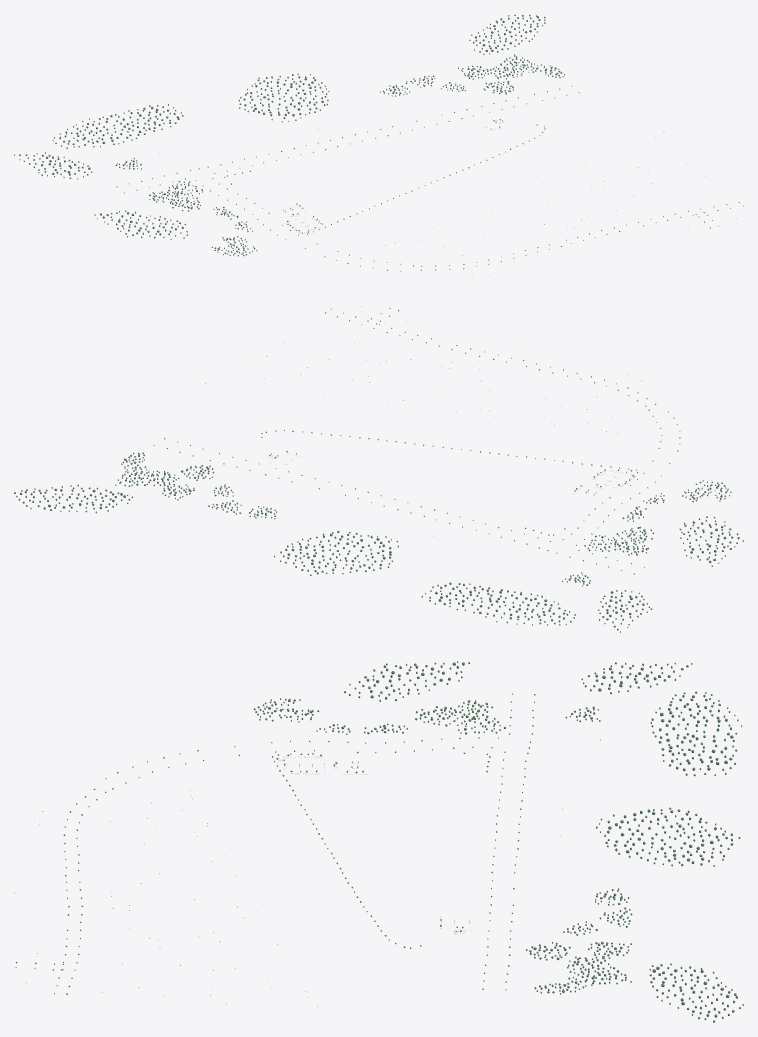
File: SM_GHSPark_TreesLight.fbx
3 views of the same model, one above another, from view 1: azimuth 30°, elevation 25°; view 2: azimuth 150°, elevation 25°; view 3: azimuth 270°, elevation 25° (orthographic). The views are drawn at different scales.
Parts seen in each view (by area): view 1: SM_GHSPark_TreesLight; view 2: SM_GHSPark_TreesLight; view 3: SM_GHSPark_TreesLight.
Boxes of the visible parts, x1,y1,x2,y2 form: SM_GHSPark_TreesLight: (14, 14, 743, 277); SM_GHSPark_TreesLight: (14, 306, 743, 632); SM_GHSPark_TreesLight: (14, 661, 743, 1022).
Size of the model in its own units: 107588 by 92036 by 874.
